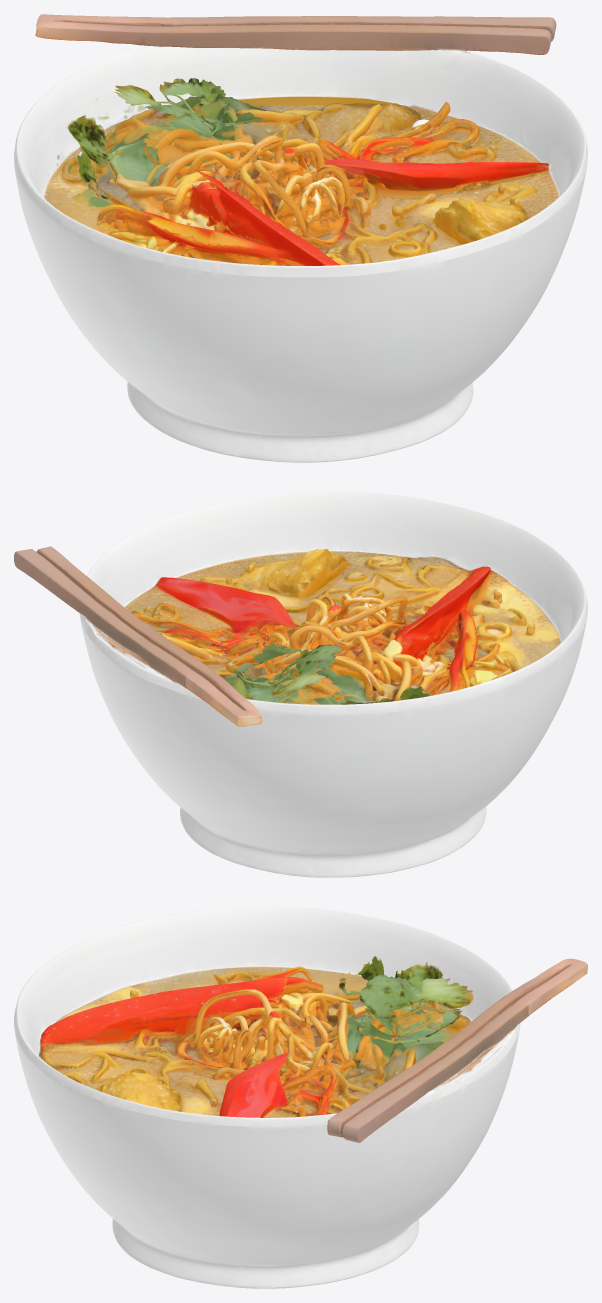
Rendered from Nouilles à Composer.glb.
The picture shows the model from 3 angles, top to bottom: view 1: azimuth 30°, elevation 25°; view 2: azimuth 150°, elevation 25°; view 3: azimuth 270°, elevation 25°; orthographic projection. The views are drawn at different scales.
Visible parts, largest first — view 1: model; view 2: model; view 3: model.
Part boxes in pixels (bbox=[...]): model: bbox=[14, 14, 587, 462]; model: bbox=[14, 491, 587, 877]; model: bbox=[14, 906, 587, 1288].
Size of the model in its own units: 1.87 by 0.8397 by 1.89.
1 material, 1 textured.
